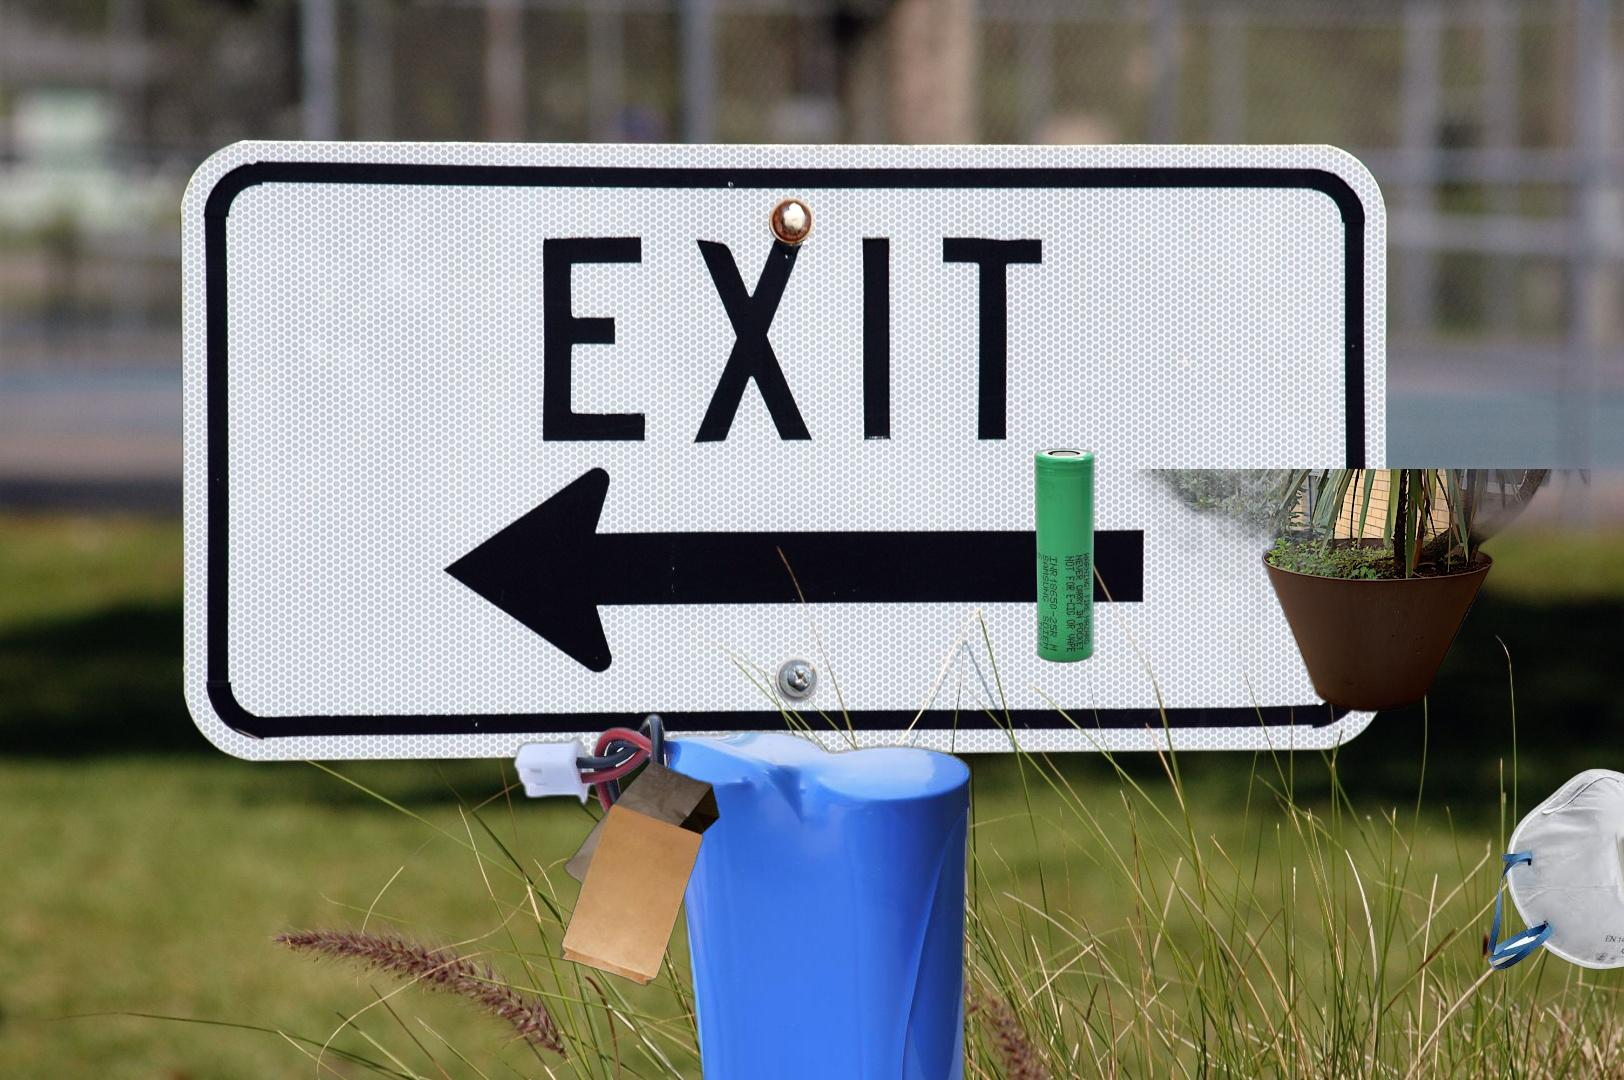battery: (506, 708, 978, 1080), (1032, 446, 1098, 665)
glass: (1079, 469, 1591, 771)
paper-bag: (557, 758, 722, 990)
trash: (1485, 765, 1624, 982)
